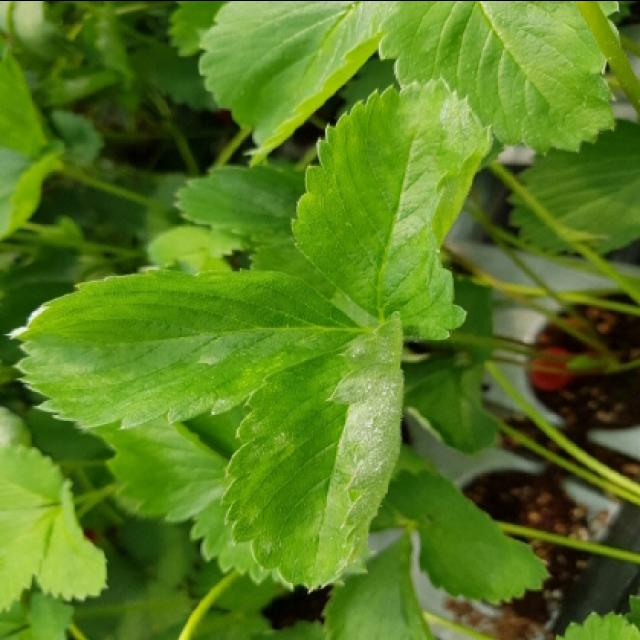Powdery Mildew Leaf: (4, 266, 369, 434), (290, 73, 502, 341), (219, 313, 406, 592)
